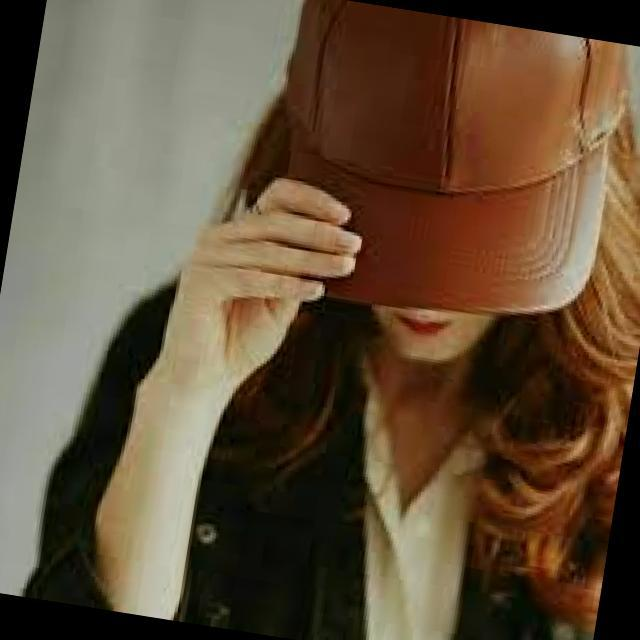cap: (198, 0, 640, 373)
